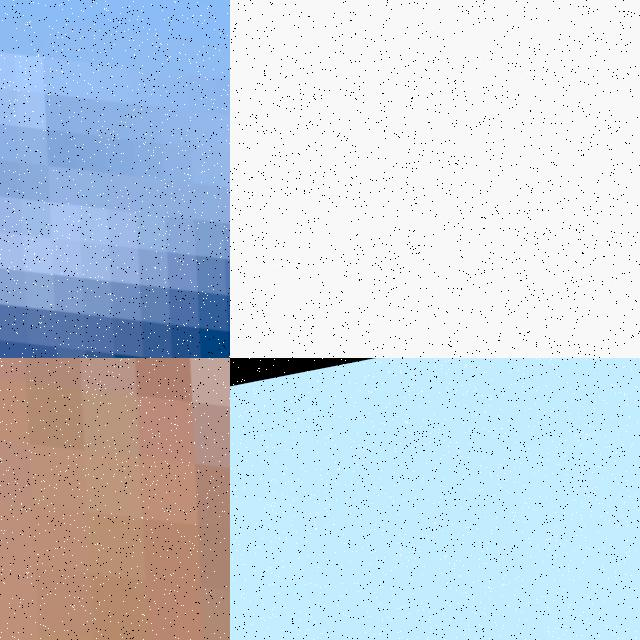drone: (230, 0, 640, 358), (0, 0, 230, 358), (0, 358, 230, 640)
